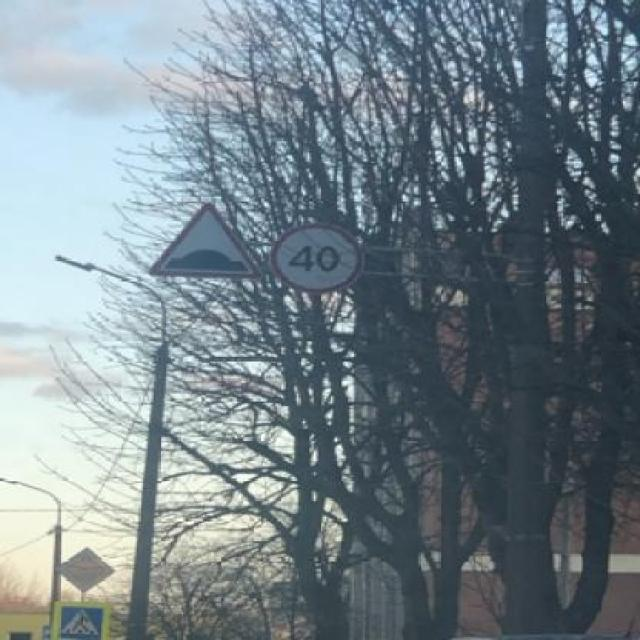forb_speed_over_40: (270, 222, 365, 295)
